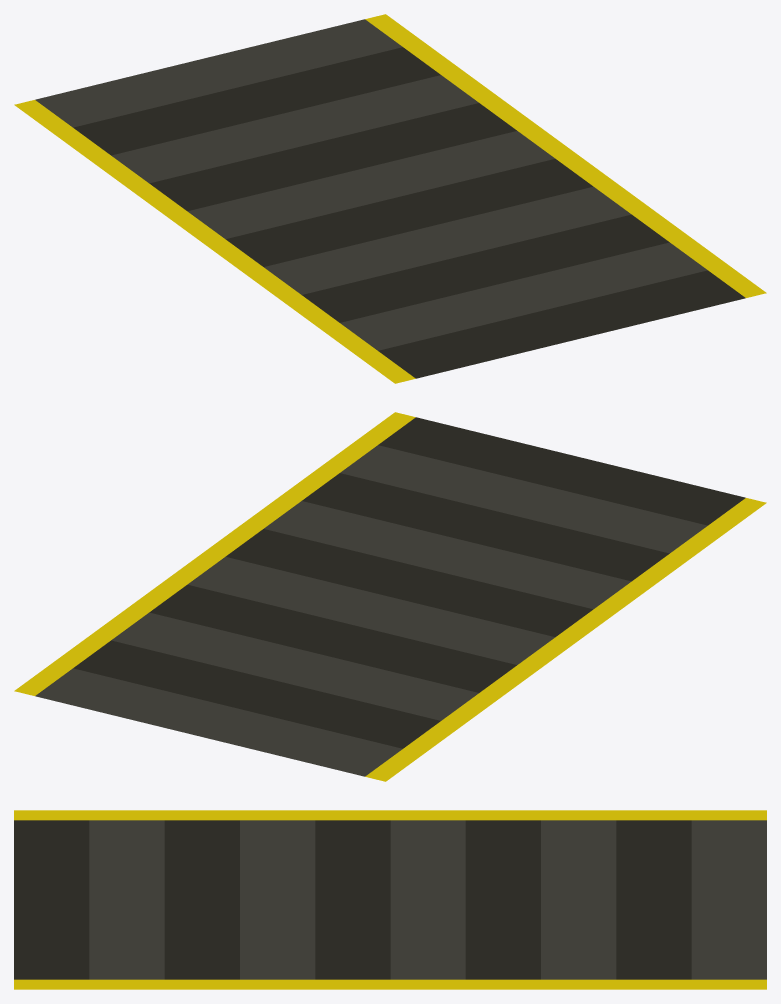
File: HyperCasualPlatform1.fbx
The picture shows the model from 3 angles, top to bottom: view 1: azimuth 30°, elevation 25°; view 2: azimuth 150°, elevation 25°; view 3: azimuth 270°, elevation 25°; orthographic projection.
Parts seen in each view (by area): view 1: Plane; view 2: Plane; view 3: Plane.
Boxes of the visible parts, box(x1,y1,x2,y2) form: Plane: box(14, 14, 766, 383); Plane: box(14, 412, 766, 781); Plane: box(14, 810, 766, 989).
Size of the model in its own units: 338 by 9.78e-05 by 600.
